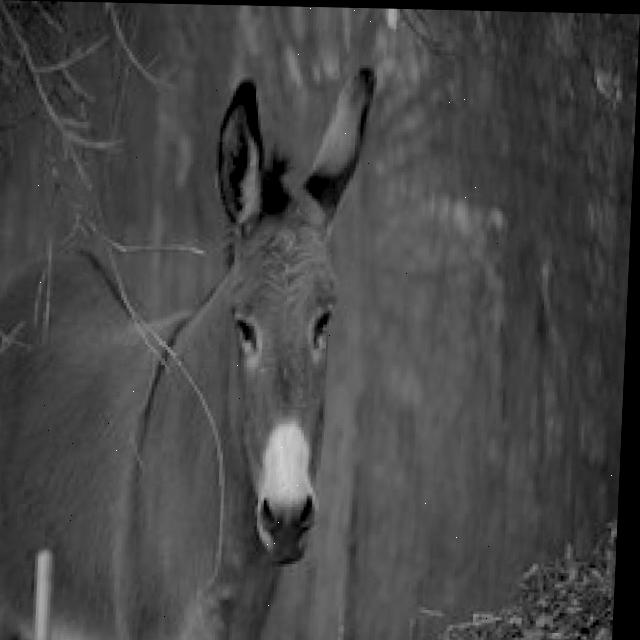Donkey: (0, 54, 378, 640)
